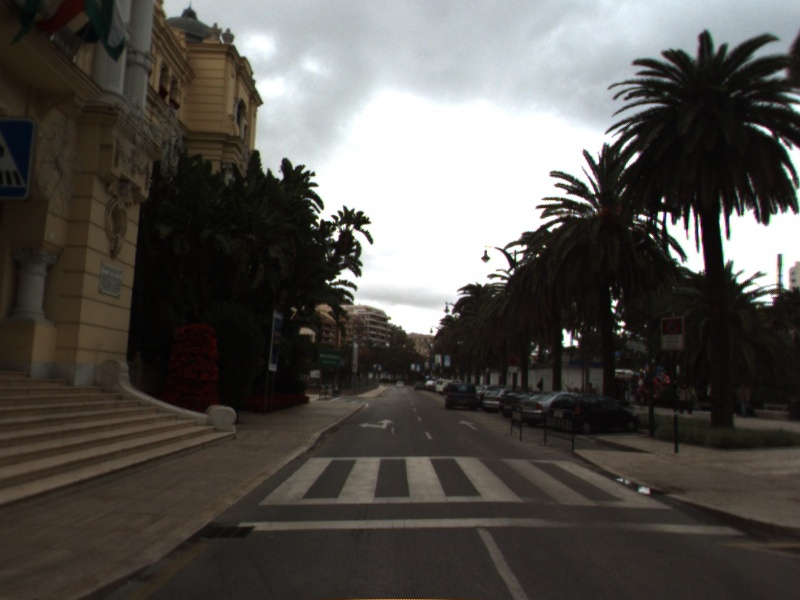STRAIGHT: (457, 418, 481, 432)
STRAIGHT_LEFT: (357, 417, 396, 431)
